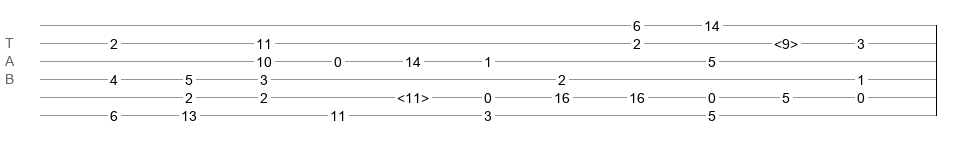0: (334, 54, 342, 64), (484, 90, 492, 100), (708, 90, 716, 100), (857, 90, 865, 100)
1: (484, 54, 492, 64), (857, 72, 865, 82)
10: (256, 54, 272, 64)
11: (256, 36, 272, 46), (330, 108, 346, 118)
13: (181, 108, 197, 118)
14: (405, 54, 421, 64), (704, 18, 720, 28)
16: (554, 90, 570, 100), (629, 90, 645, 100)
2: (110, 36, 118, 46), (185, 90, 193, 100), (260, 90, 268, 100), (558, 72, 566, 82), (633, 36, 641, 46)
3: (260, 72, 268, 82), (484, 108, 492, 118), (857, 36, 865, 46)
4: (110, 72, 118, 82)
5: (185, 72, 193, 82), (708, 108, 716, 118), (708, 54, 716, 64), (782, 90, 790, 100)
6: (110, 108, 118, 118), (633, 18, 641, 28)
harmonic: (397, 90, 429, 100), (774, 36, 798, 46)
